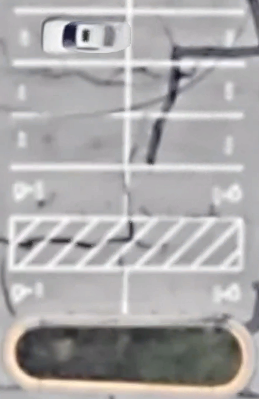Occupied: (13, 10, 128, 63)
Vacant: (13, 63, 128, 117), (128, 10, 244, 63), (126, 267, 241, 320), (9, 268, 126, 320), (127, 166, 241, 219), (127, 116, 243, 168), (129, 64, 244, 116), (12, 166, 128, 217), (12, 116, 127, 167)
